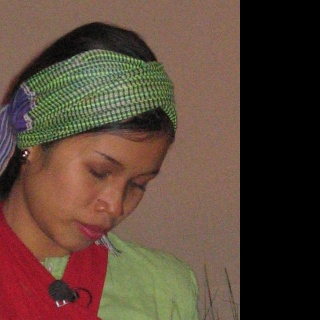without_mask: (16, 128, 172, 253)
